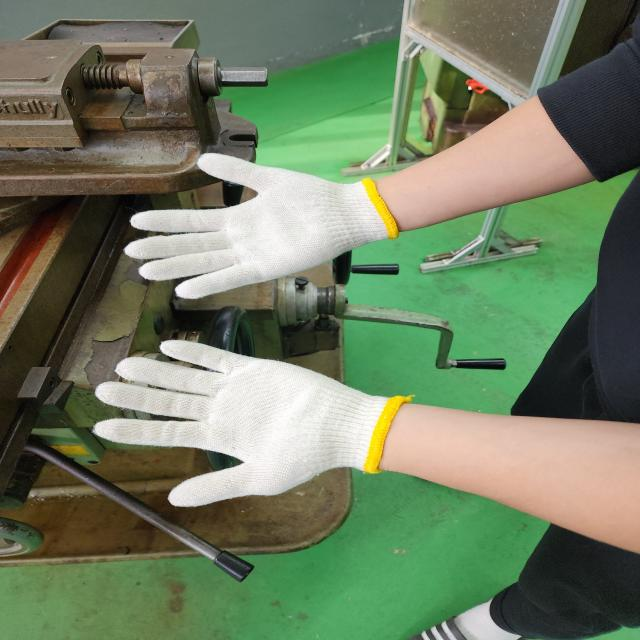Boots: (93, 340, 410, 505), (126, 152, 402, 298)
